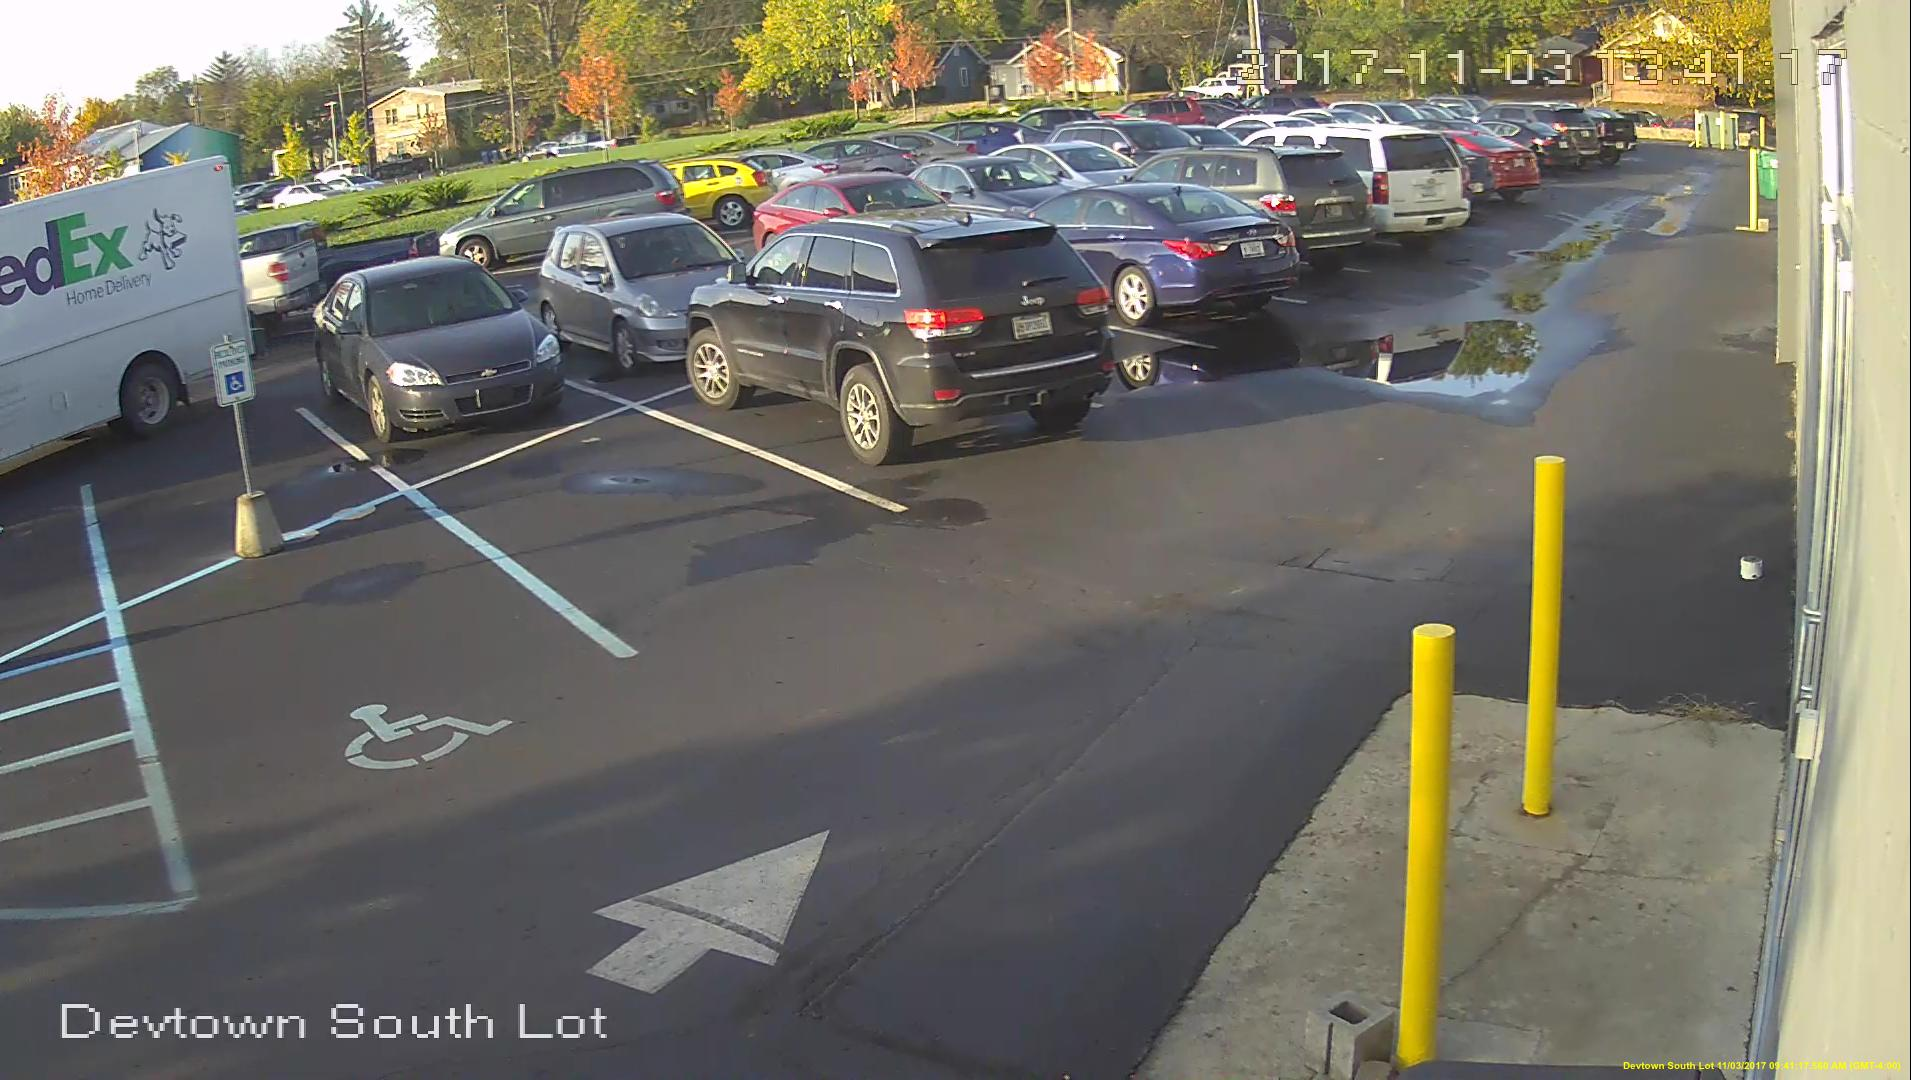fedex_truck: (1, 151, 239, 458)
